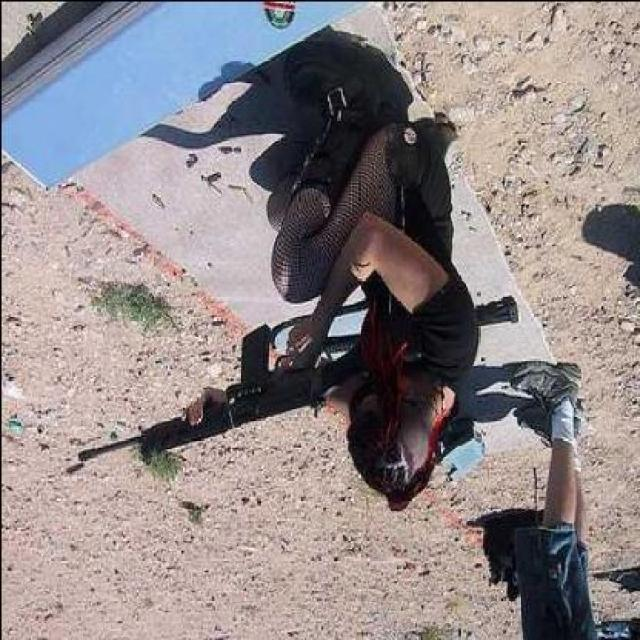rifle: (76, 294, 519, 463)
